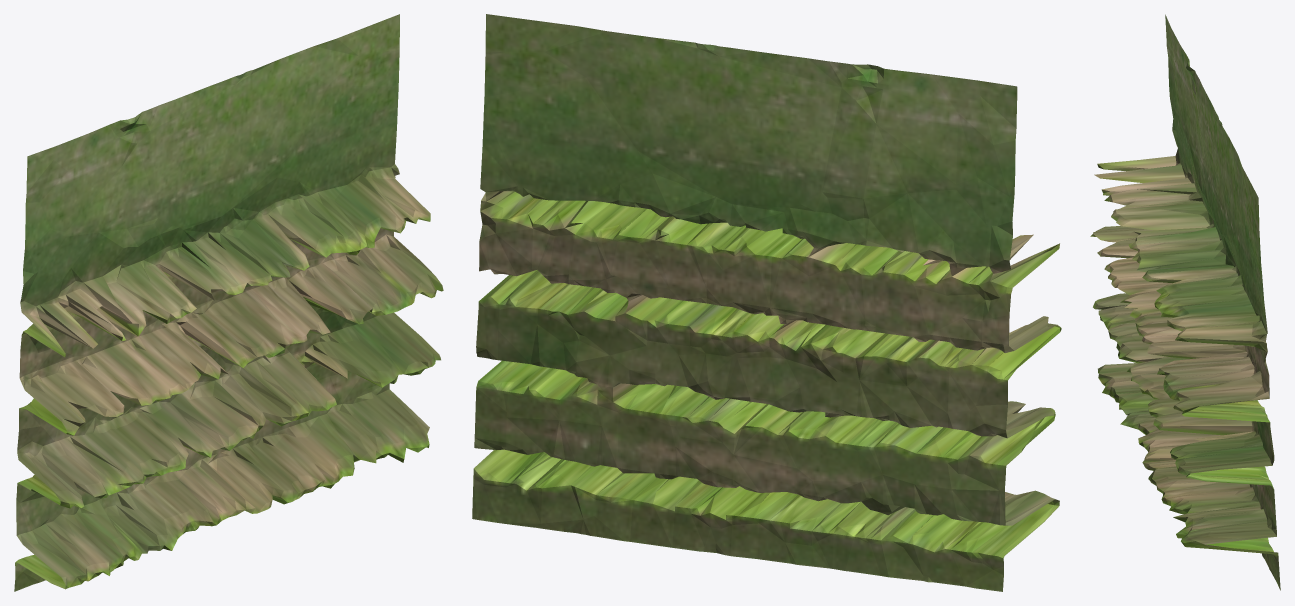
Rendered from map_260_30.obj.
The picture shows the model from 3 angles, left to right: view 1: azimuth 30°, elevation 25°; view 2: azimuth 150°, elevation 25°; view 3: azimuth 270°, elevation 25°; orthographic projection. The views are drawn at different scales.
Visible parts, largest first — view 1: grp1; view 2: grp1; view 3: grp1.
Part boxes in pixels (left/top/right/bottom): grp1: left=14, top=14, right=443, bottom=591; grp1: left=472, top=14, right=1061, bottom=591; grp1: left=1090, top=14, right=1280, bottom=590.
Bounding box in the file's own units: 10 × 10 × 4.38.
1 material, 1 textured.
